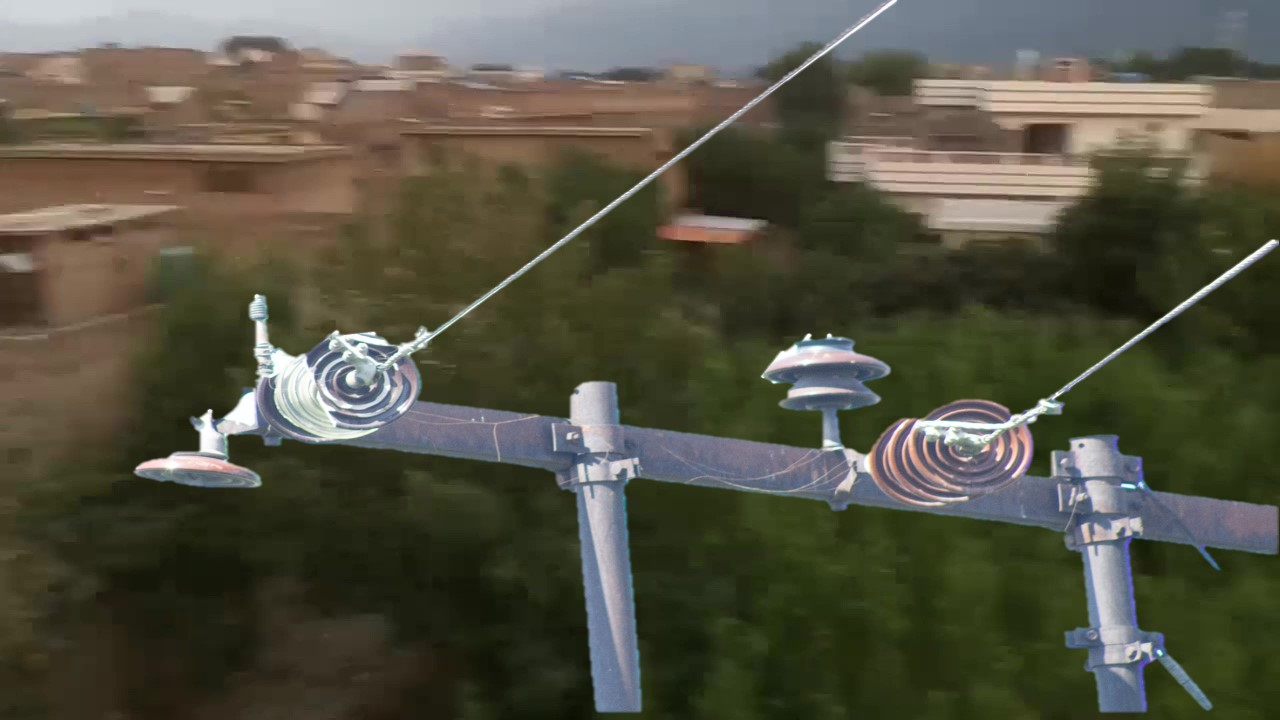defect_disc: (291, 331, 425, 433)
insulator_disc: (904, 389, 1042, 495), (122, 419, 267, 509)
